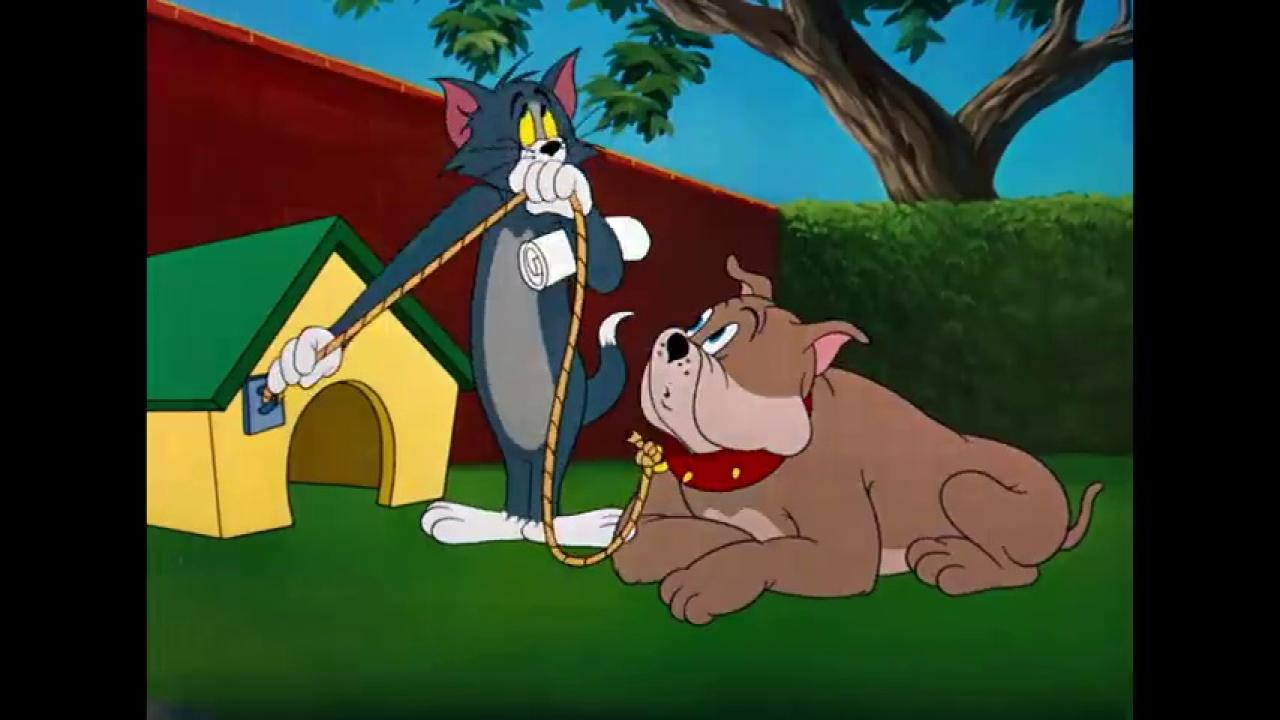Tom: (266, 45, 634, 551)
